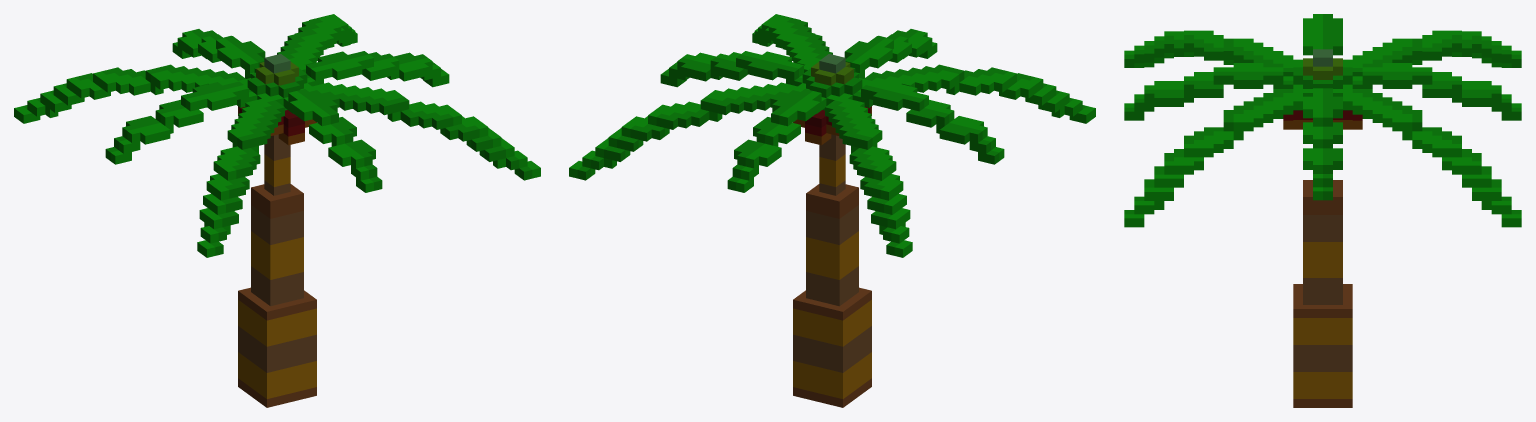
Rendered from tree.glb.
The picture shows the model from 3 angles, left to right: view 1: azimuth 30°, elevation 25°; view 2: azimuth 150°, elevation 25°; view 3: azimuth 270°, elevation 25°; orthographic projection. The views are drawn at different scales.
Parts seen in each view (by area): view 1: Object_4; view 2: Object_4; view 3: Object_4.
Boxes of the visible parts, bbox=[...] form: Object_4: bbox=[14, 14, 540, 407]; Object_4: bbox=[569, 14, 1095, 407]; Object_4: bbox=[1124, 14, 1521, 407].
Bounding box in the file's own units: 4 × 3.8 × 4.
1 material, 1 textured.
